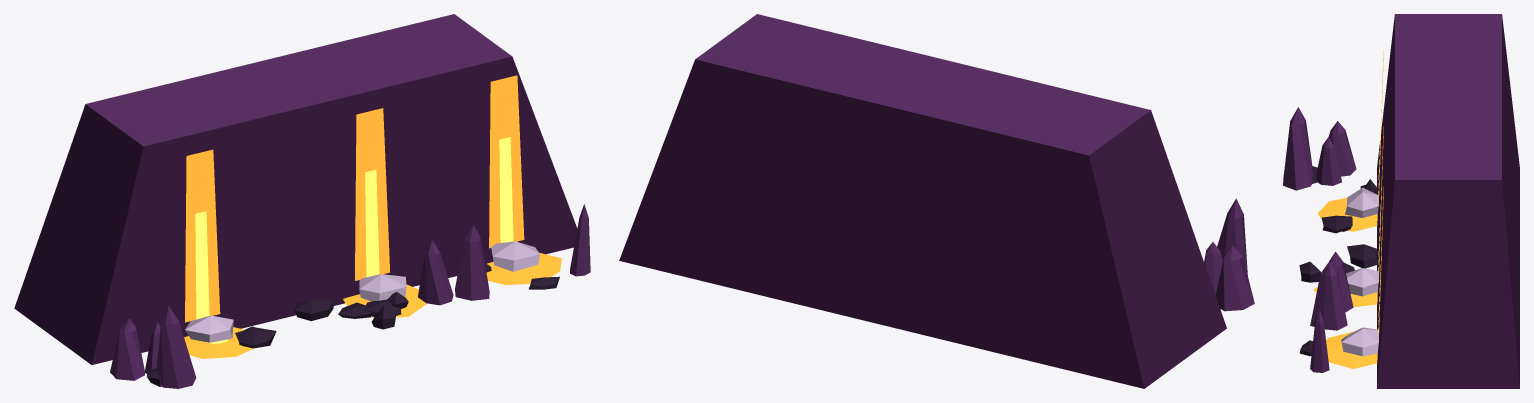
The model's file is W4_Mid_LavaFalls.fbx.
3 views of the same model, side by side, from view 1: azimuth 30°, elevation 25°; view 2: azimuth 150°, elevation 25°; view 3: azimuth 270°, elevation 25° (orthographic). The views are drawn at different scales.
Visible parts, largest first — view 1: W4_Mid_LavaFalls; view 2: W4_Mid_LavaFalls; view 3: W4_Mid_LavaFalls.
Boxes of the visible parts, x1=… form: W4_Mid_LavaFalls: x1=14, y1=14, x2=590, y2=388; W4_Mid_LavaFalls: x1=619, y1=14, x2=1254, y2=388; W4_Mid_LavaFalls: x1=1283, y1=14, x2=1519, y2=388.
Bounding box in the file's own units: 110 × 42 × 49.73.
